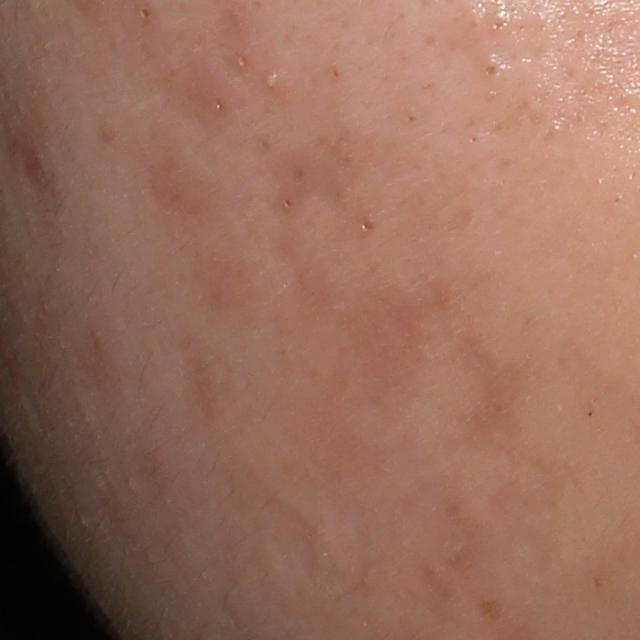comedo: (479, 55, 511, 86), (234, 54, 249, 70), (137, 5, 151, 22)
pustule: (261, 68, 282, 93)
